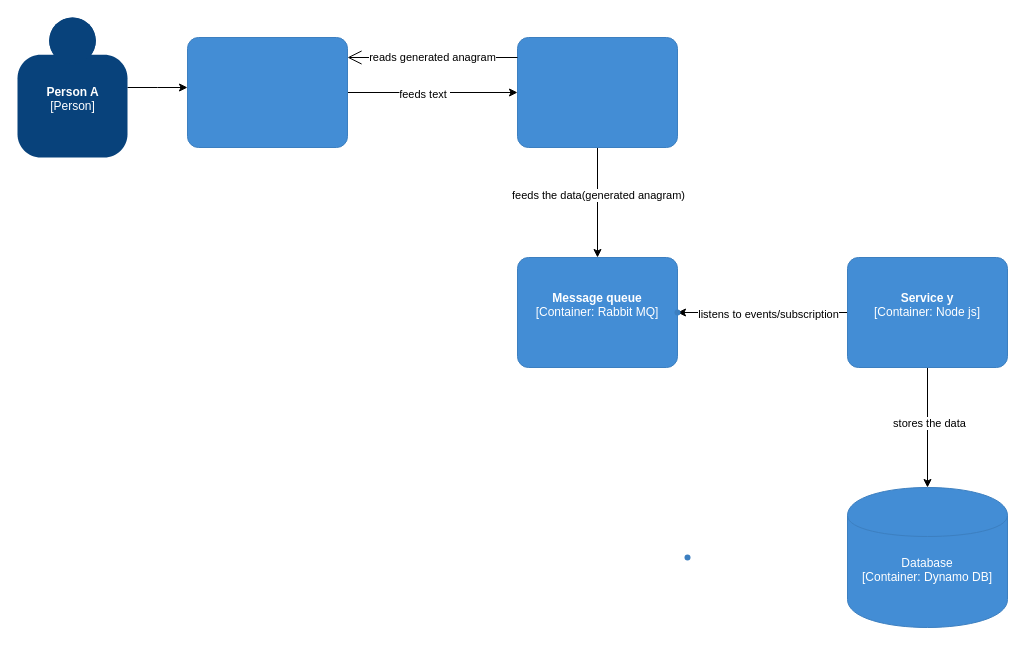
This 1025x645 diagram has some shape labels left out. Here are the shapes that lost their labels. From the top down, the centre of each, then its label:
the point at 267,92: Web App [Container: ReactJS/CSS/HTML] Description
the point at 597,92: Service X [Container: Node js]
